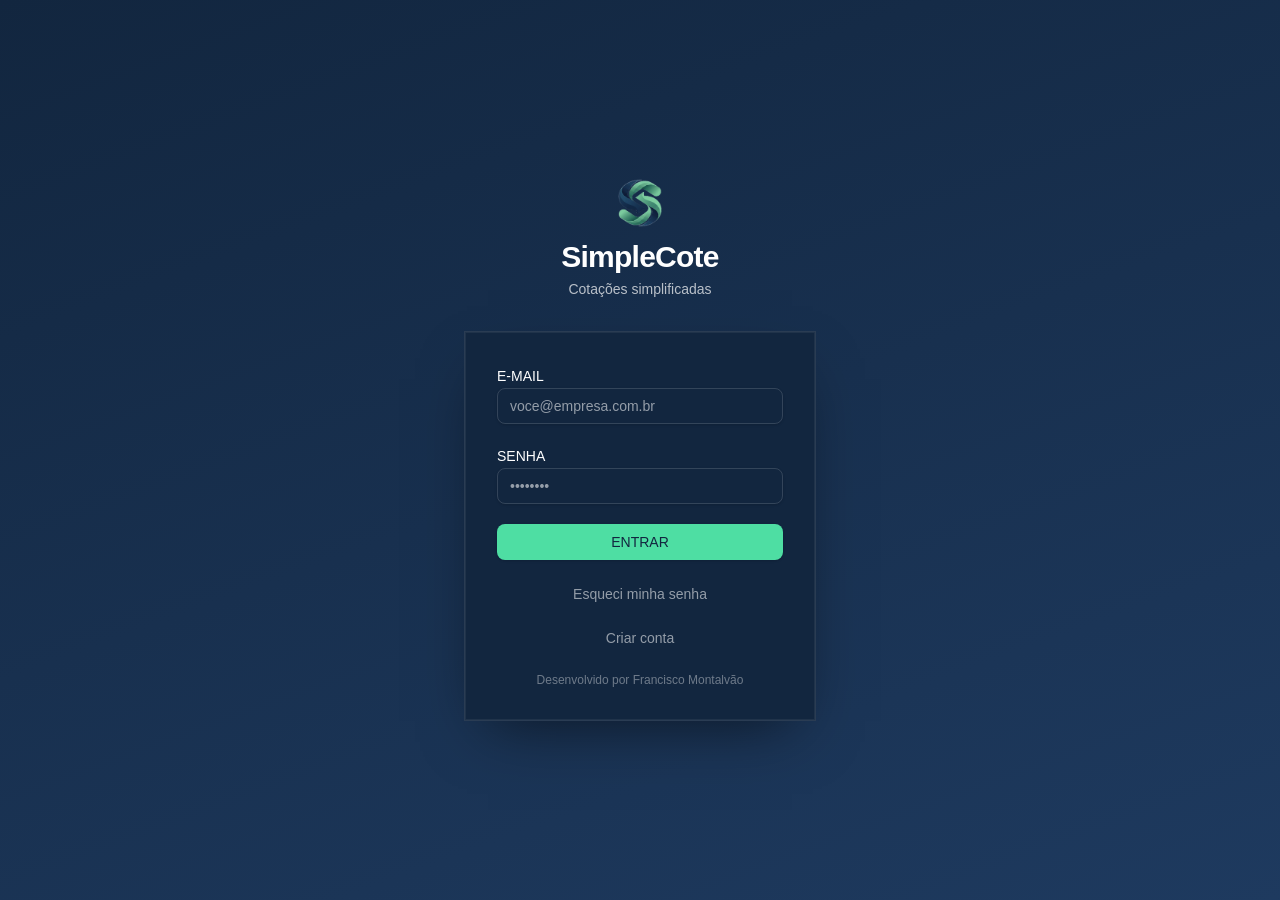
Scenario: erro de API: 401 exibe a mensagem do servidor e permanece em /login
The width and height of the screenshot is (1280, 900).
Type "admin@simplecote.com" into the field labelled "E-mail" at point(640, 406), box [497, 388, 783, 424]
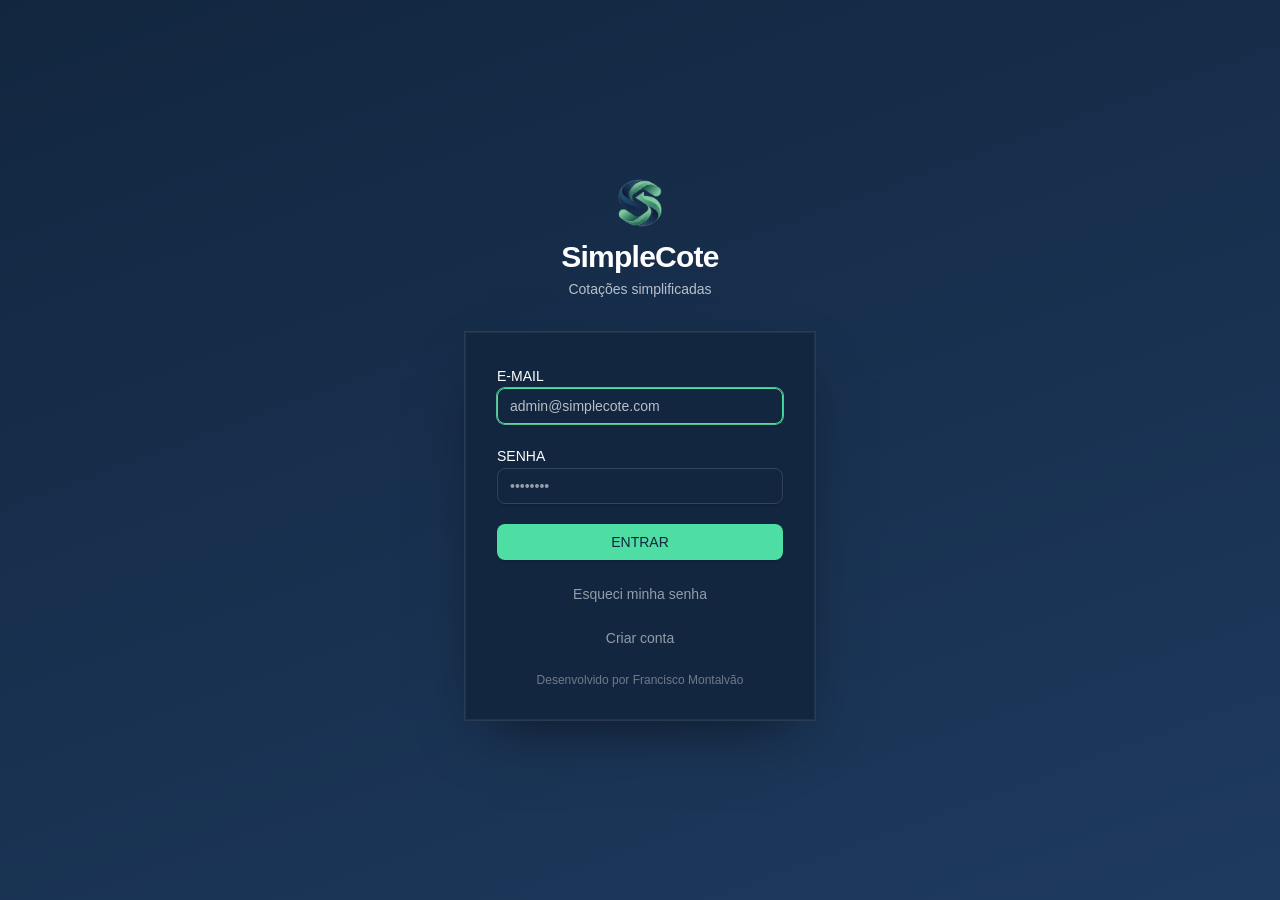
Type "errada" into the password field labelled "Senha" at point(640, 486), box [497, 468, 783, 504]
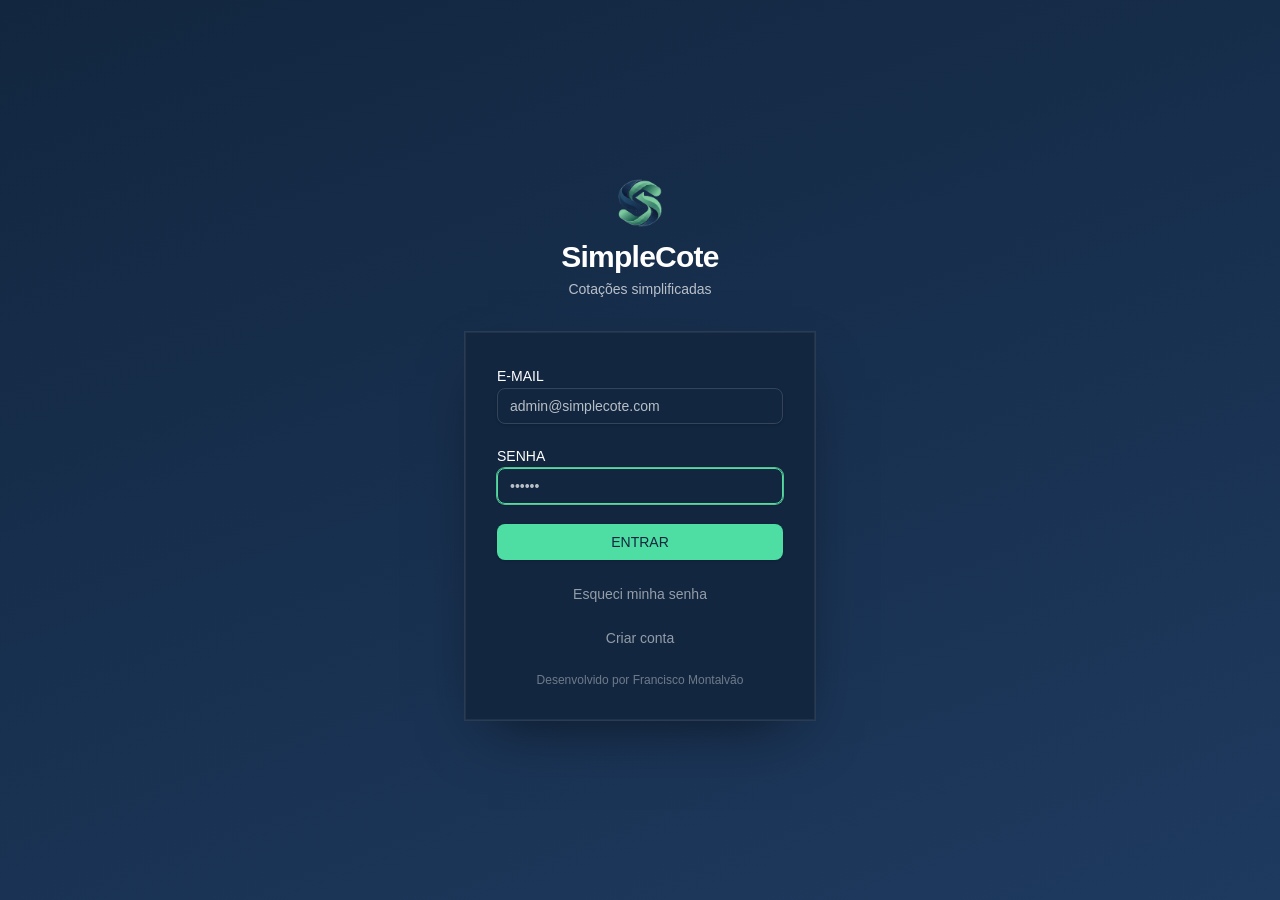
Click the button "Entrar" at point(640, 542), box [497, 524, 783, 560]
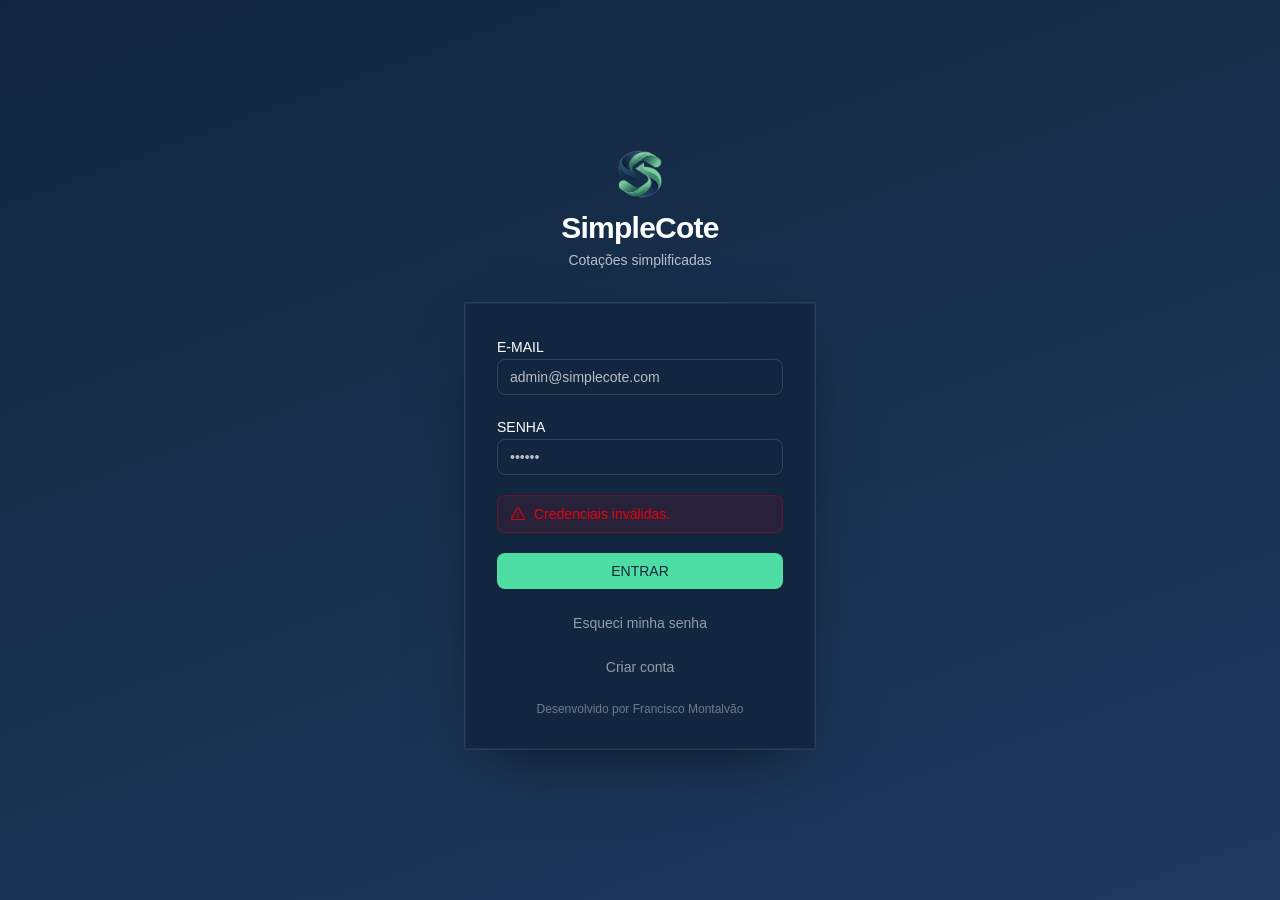
Now the message reads "Credenciais inválidas.", box [534, 506, 670, 522]
